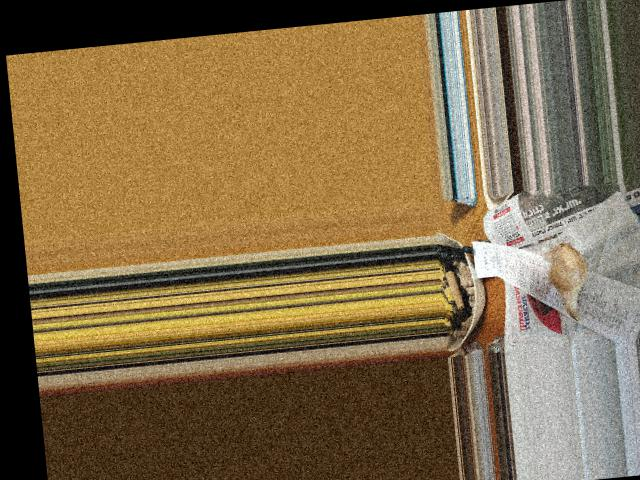onion: (545, 237, 586, 305)
